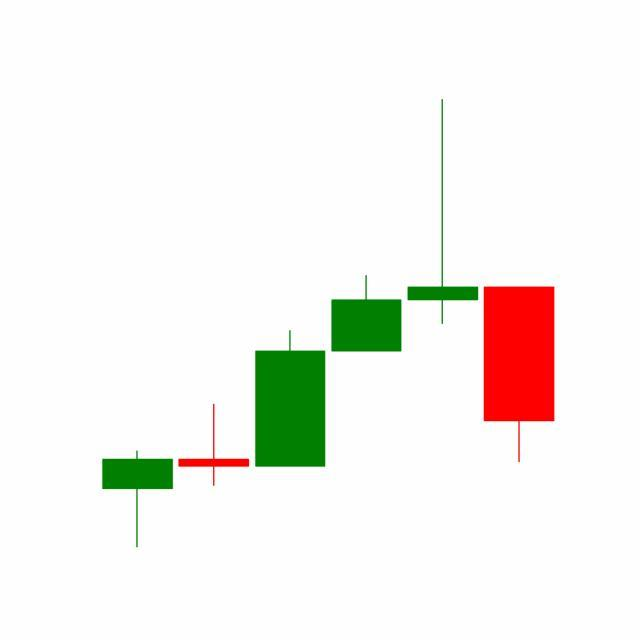Spinning Top: (404, 97, 482, 327)
